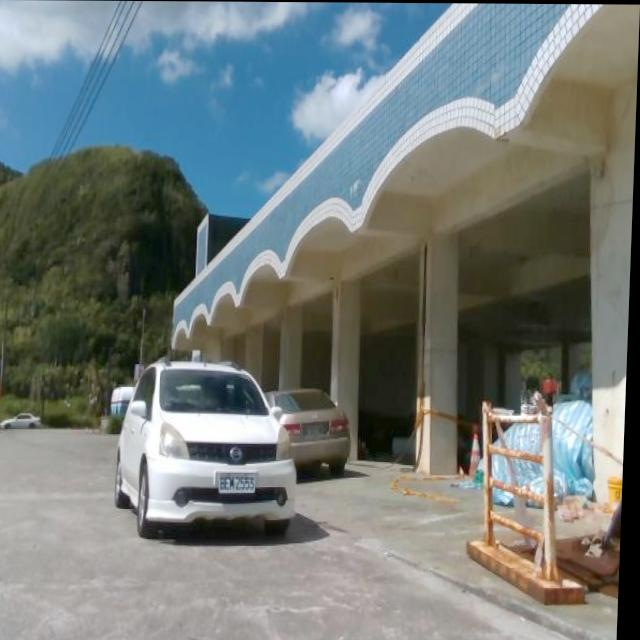pollute: (474, 362, 600, 517)
